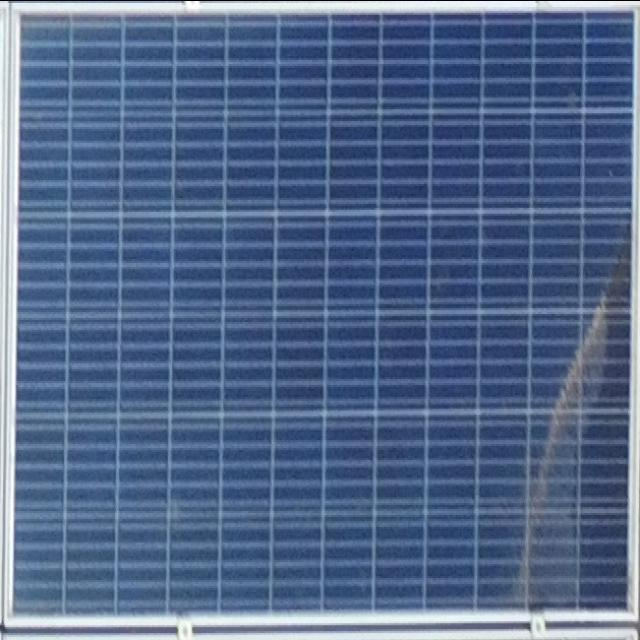Dust: (500, 227, 638, 626)
